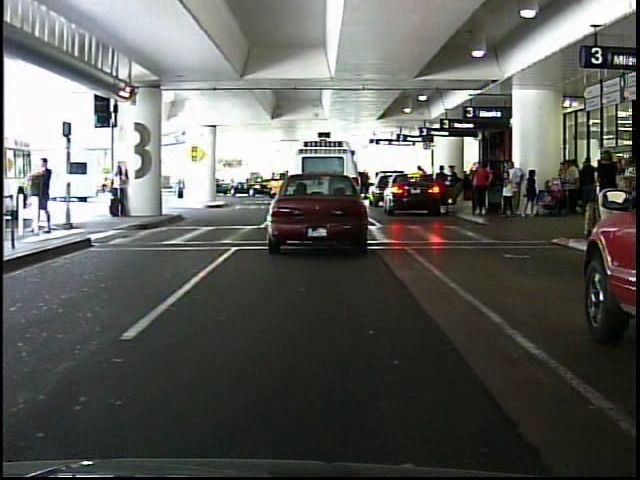person: (587, 146, 626, 236), (31, 150, 57, 237), (109, 160, 131, 219), (166, 160, 193, 203), (472, 161, 492, 218)
